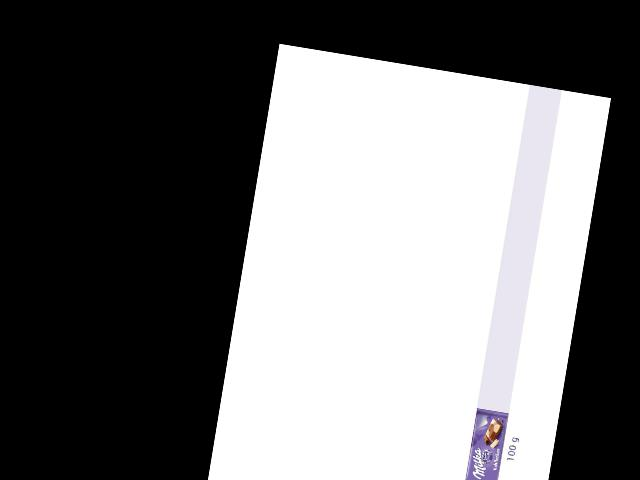chocolate: (464, 407, 510, 480)
